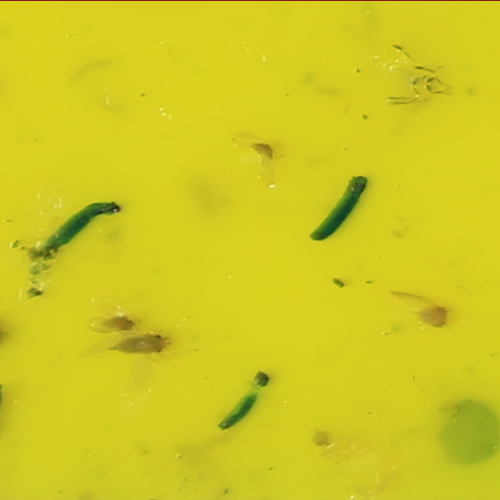Glycaspis: (114, 334, 171, 356)
